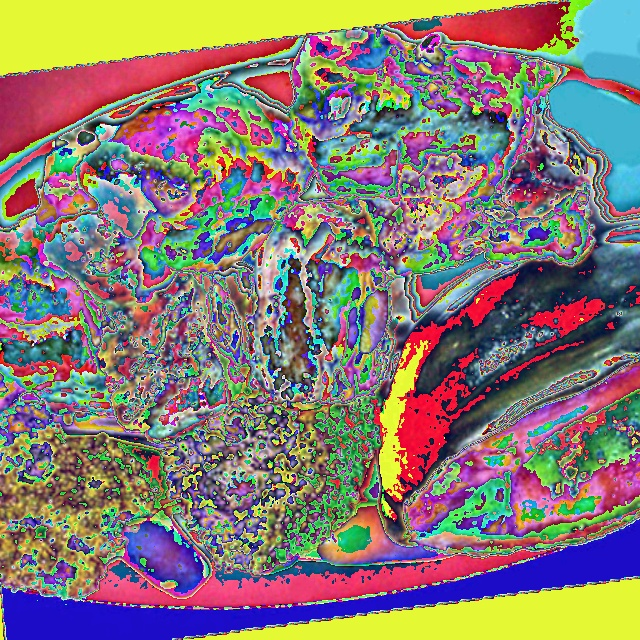background: (0, 27, 640, 604)
